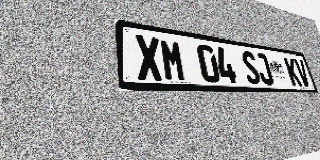0: (196, 44, 221, 83)
4: (214, 46, 238, 84)
J: (254, 52, 275, 85)
K: (283, 57, 302, 86)
M: (159, 38, 187, 82)
S: (240, 50, 262, 85)
V: (293, 58, 312, 86)
X: (134, 34, 164, 81)
